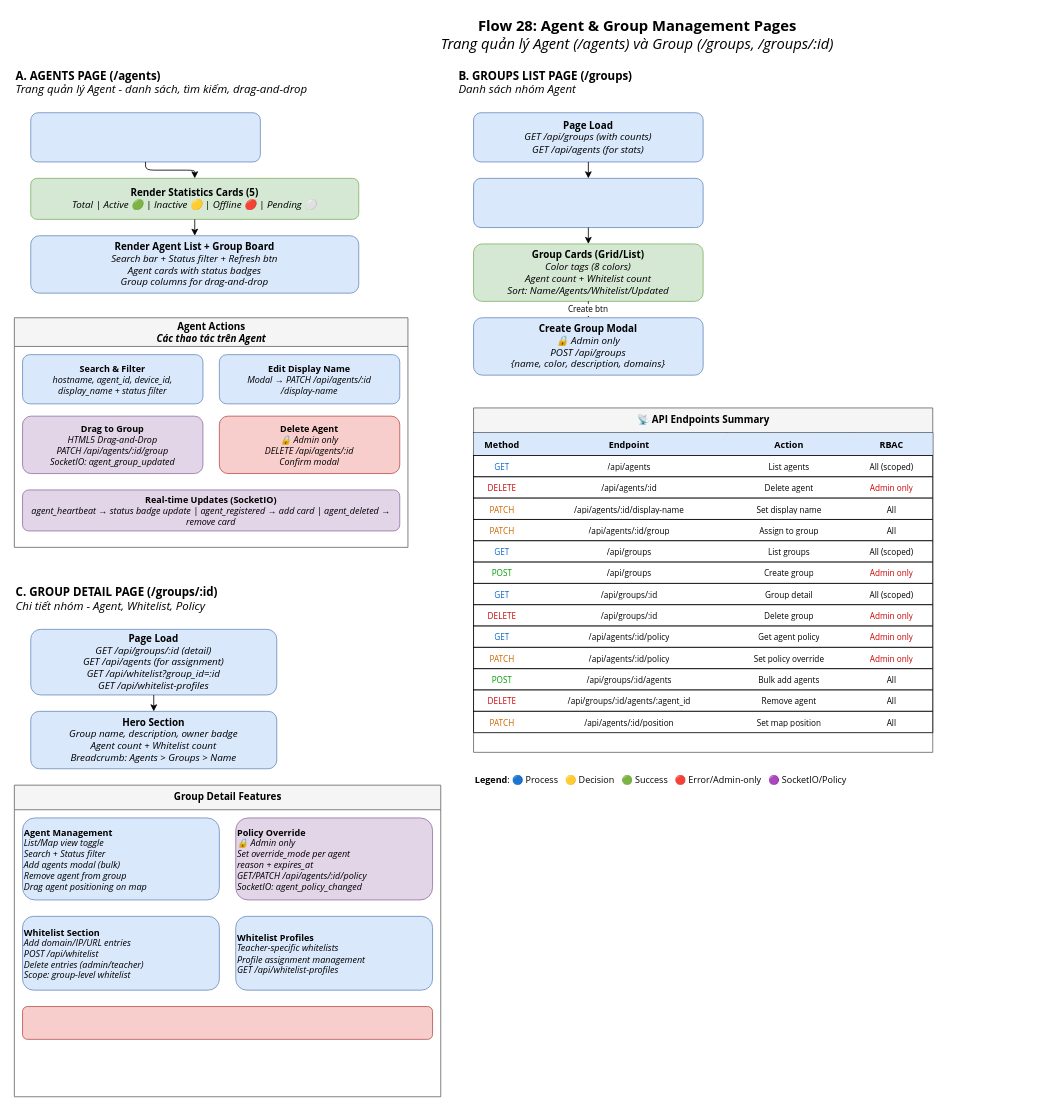
The diagram is 1062 pixels wide and 1111 high, and some of its shapes have lost their labels. Here are the shapes that lost their labels. From the top down, the centre of each, then its label:
At (x=145, y=137): "Page Load GET /api/agents (pagination) GET /api/groups (for board)".
At (x=588, y=203): "Hero + Controls Search box + Sort dropdown Grid/List toggle + Create btn 🔒".
At (x=227, y=1022): "Delete Group 🔒 Admin only - DELETE /api/groups/:id - Agents → pending status".
